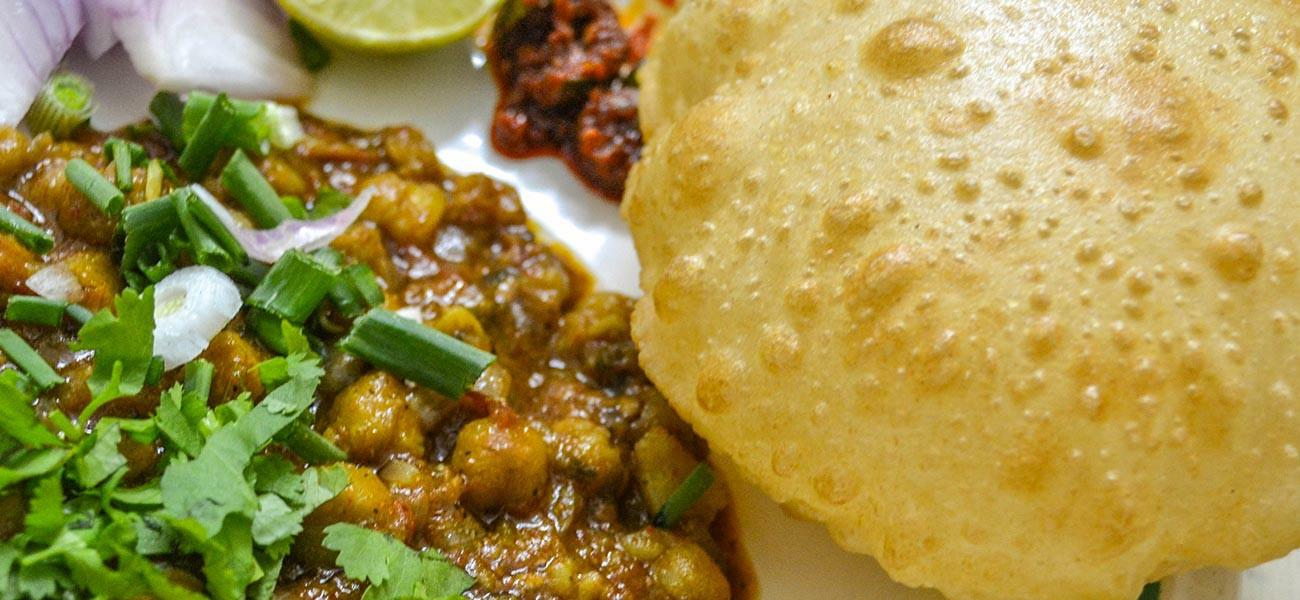Bhatura: (629, 0, 1300, 600)
Chole: (1, 97, 727, 600)
